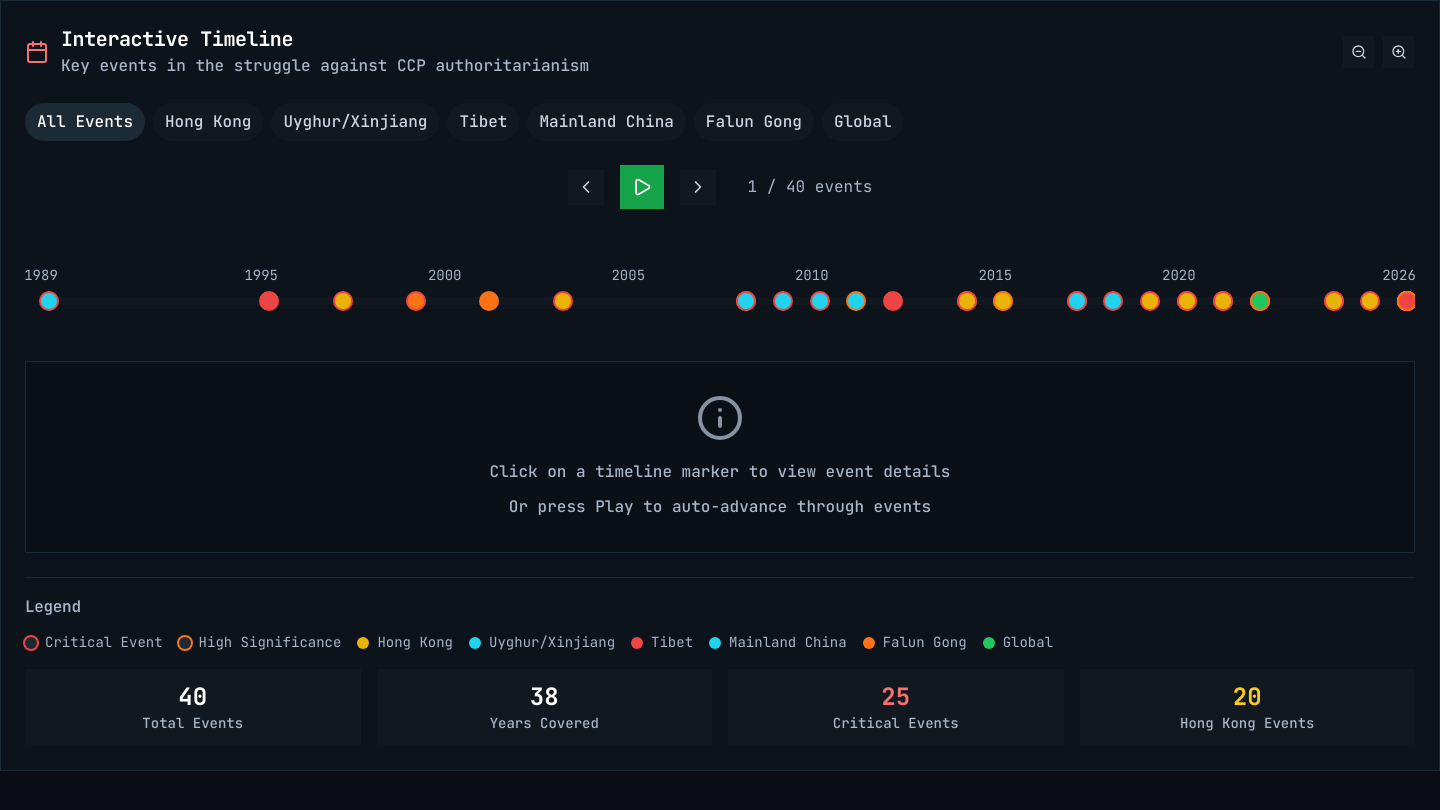
Test: InteractiveTimeline › auto-plays through events when Play is clicked
Click the button named "Play timeline" at (642, 187), box [620, 165, 664, 209]
Wait 3000 ms
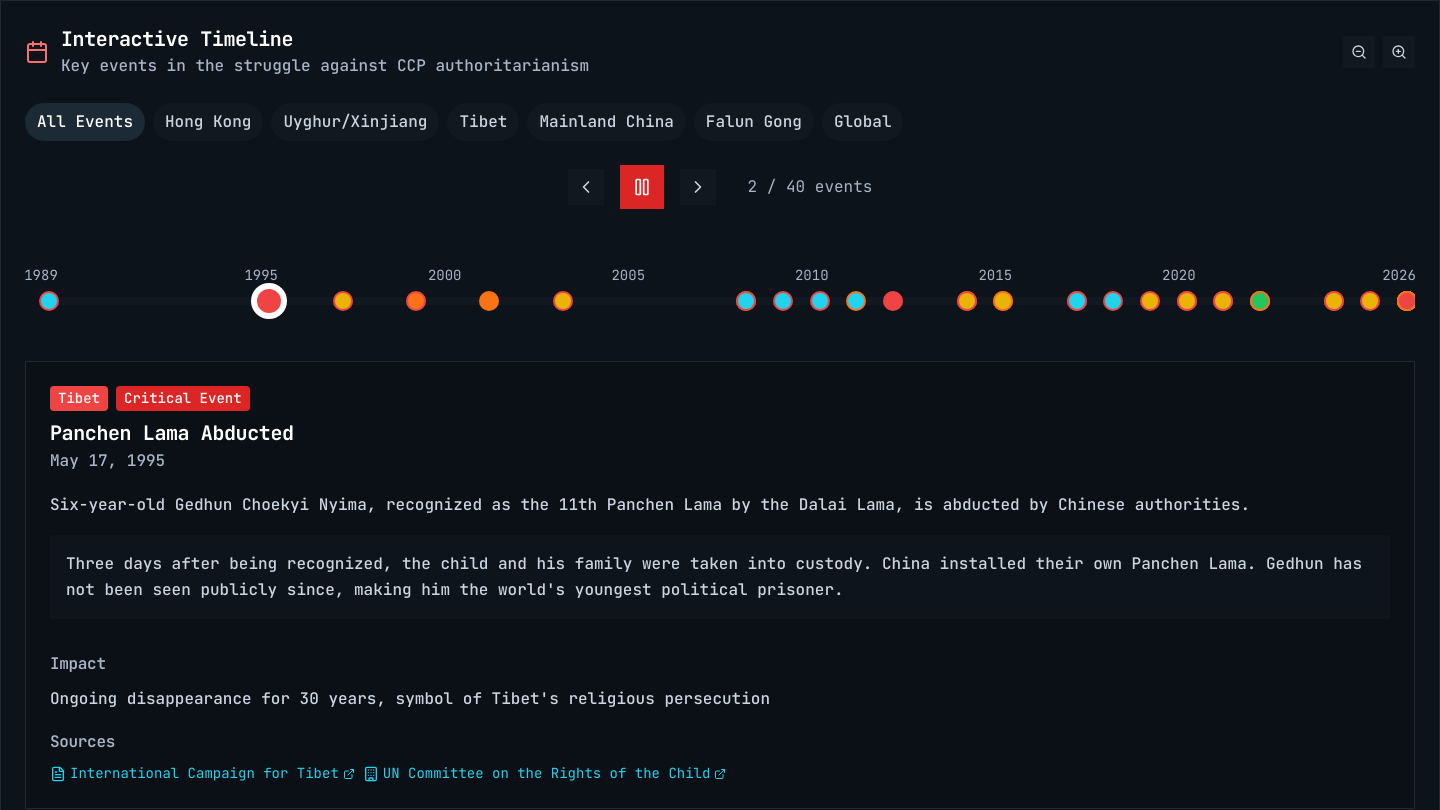
expect the text "2 / 40 events" is shown: met, box [748, 174, 872, 200]
expect the text "Click on a timeline marker to view event details" is gone: met
